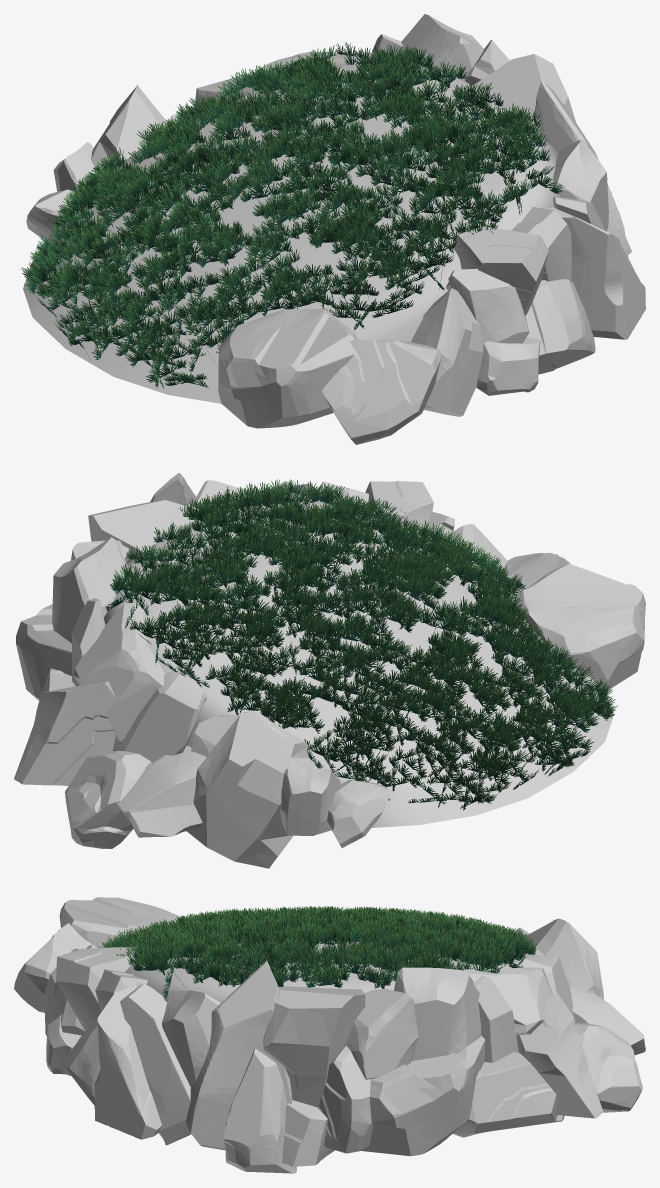
File: sm_2x_hillCliff_1.fbx
The picture shows the model from 3 angles, top to bottom: view 1: azimuth 30°, elevation 25°; view 2: azimuth 150°, elevation 25°; view 3: azimuth 270°, elevation 25°; orthographic projection. The views are drawn at different scales.
Visible parts, largest first — view 1: sm_2x_hillCliff_grass:ZBrushPolyMesh3D1; view 2: sm_2x_hillCliff_grass:ZBrushPolyMesh3D1; view 3: sm_2x_hillCliff_grass:ZBrushPolyMesh3D1.
Part boxes in pixels (x1,y1,x2,y2): sm_2x_hillCliff_grass:ZBrushPolyMesh3D1: [20, 14, 645, 444]; sm_2x_hillCliff_grass:ZBrushPolyMesh3D1: [14, 473, 645, 868]; sm_2x_hillCliff_grass:ZBrushPolyMesh3D1: [14, 897, 645, 1173].
Size of the model in its own units: 1665 by 719 by 1945.
